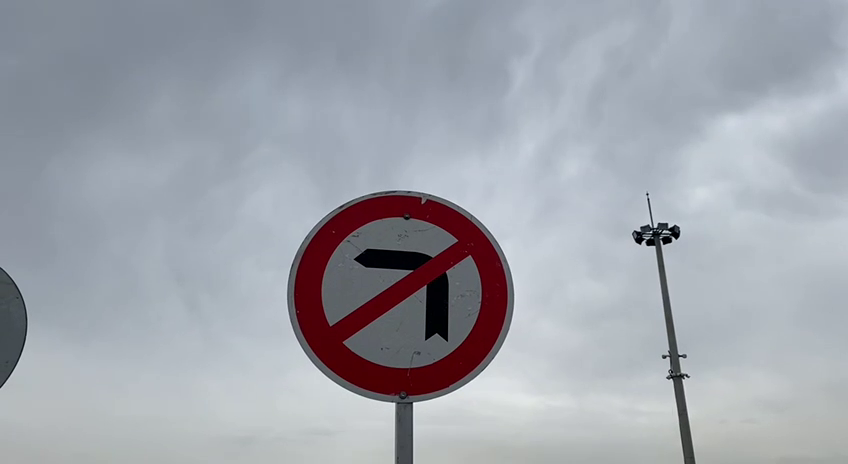noTurnLeft: (281, 182, 522, 405)
